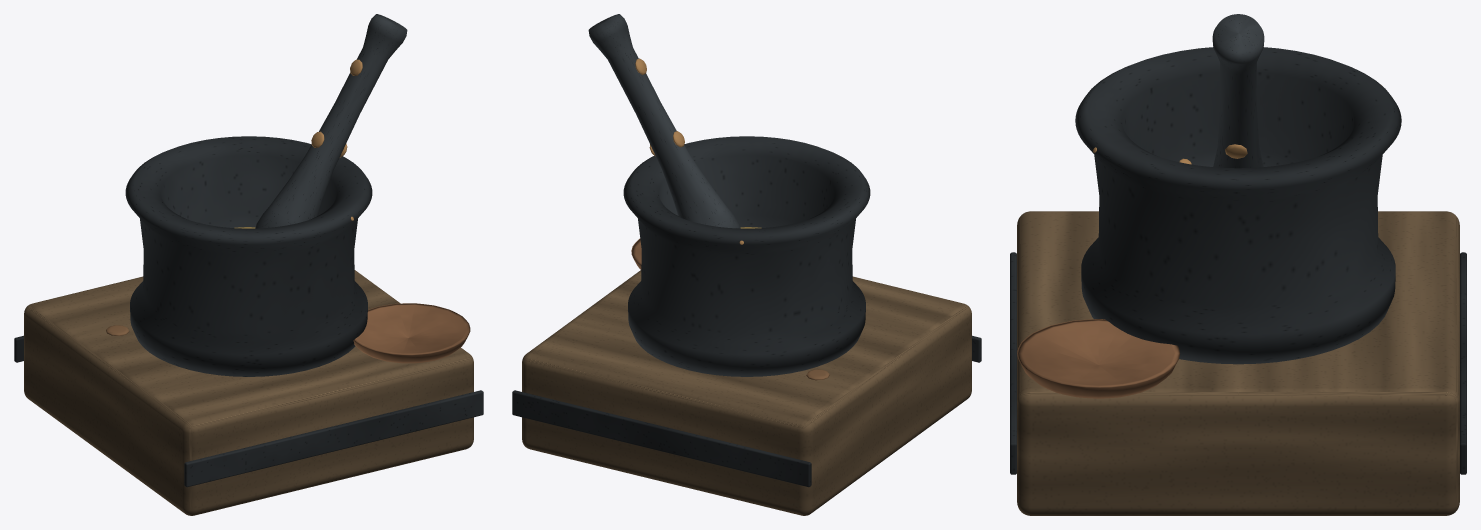
3 views of the same model, side by side, from view 1: azimuth 30°, elevation 25°; view 2: azimuth 150°, elevation 25°; view 3: azimuth 270°, elevation 25° (orthographic). The views are drawn at different scales.
Parts seen in each view (by area): view 1: blackened strap iron, sawn end-grain timber, forged iron, aged brass fittings; view 2: blackened strap iron, sawn end-grain timber, forged iron; view 3: blackened strap iron, sawn end-grain timber, aged brass fittings, forged iron.
Part boxes in pixels (box(x1,y1,x2,y2)): blackened strap iron: box(14, 136, 483, 487); sawn end-grain timber: box(24, 270, 473, 515); forged iron: box(255, 14, 407, 228); aged brass fittings: box(353, 303, 470, 363); blackened strap iron: box(512, 136, 981, 487); sawn end-grain timber: box(522, 270, 971, 515); forged iron: box(588, 14, 740, 228); blackened strap iron: box(1010, 47, 1466, 474); sawn end-grain timber: box(1017, 211, 1459, 515); aged brass fittings: box(1017, 319, 1180, 398); forged iron: box(1212, 14, 1264, 168).
Size of the model in its own units: 0.405 by 0.4702 by 0.392.
7 materials, 5 textured.
